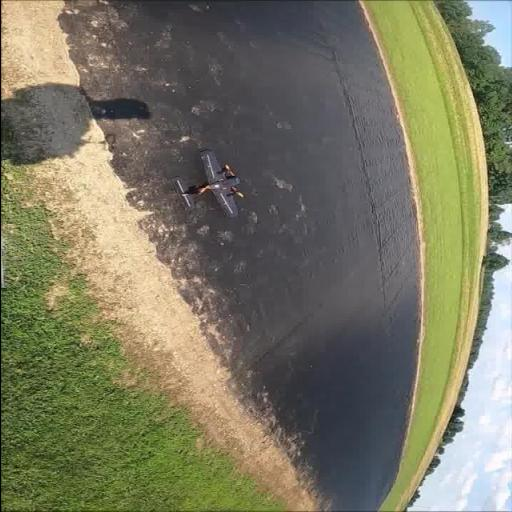uav: (164, 147, 254, 221)
